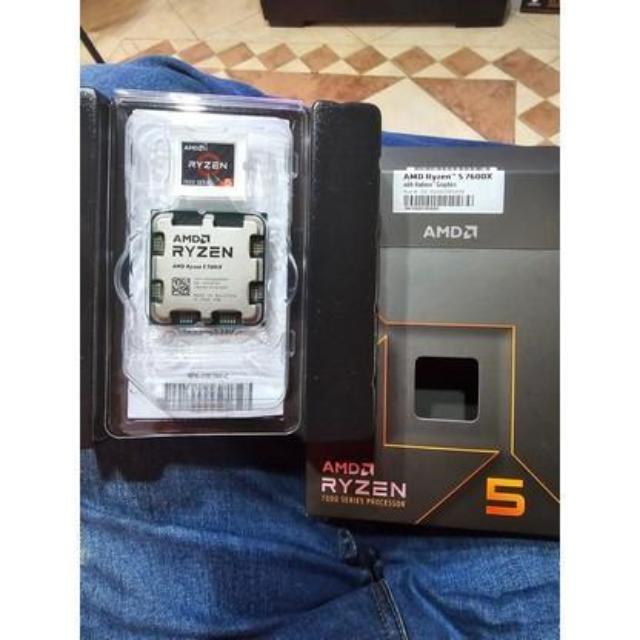CPU: (154, 212, 263, 324)
